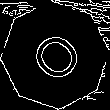O_SE: (22, 22, 88, 88)
